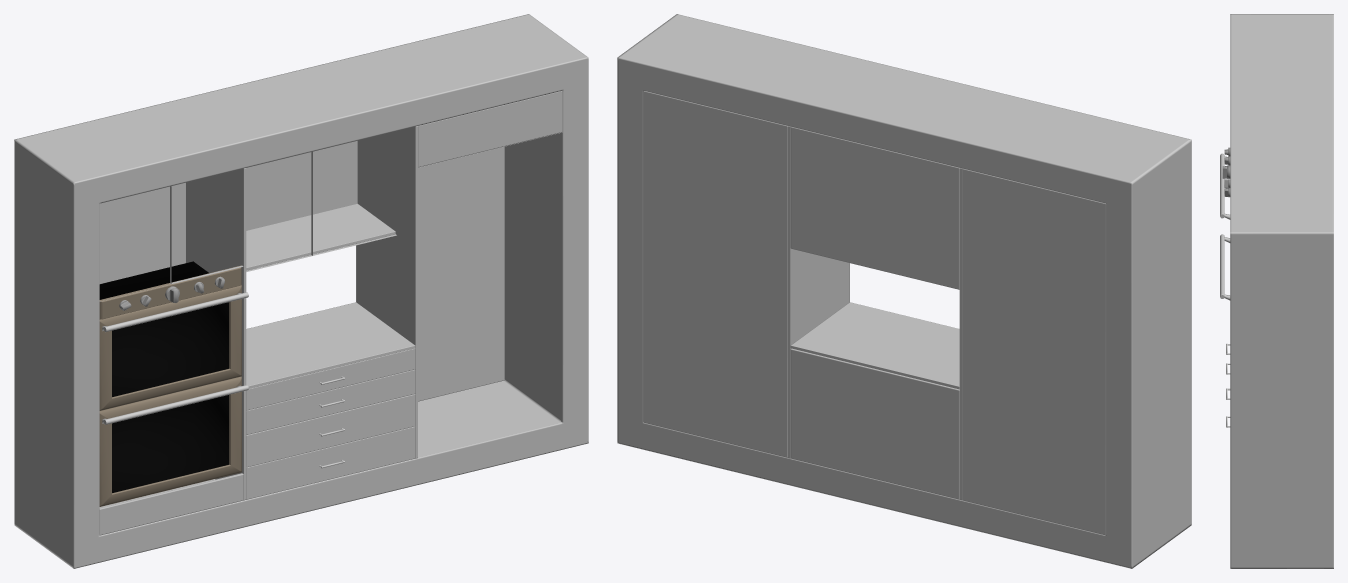
Rendered from 405Main.obj.
3 views of the same model, side by side, from view 1: azimuth 30°, elevation 25°; view 2: azimuth 150°, elevation 25°; view 3: azimuth 270°, elevation 25° (orthographic). The views are drawn at different scales.
Visible parts, largest first — view 1: 405; view 2: 405; view 3: 405.
Boxes of the visible parts, bbox=[...] form: 405: bbox=[14, 14, 588, 568]; 405: bbox=[617, 14, 1191, 568]; 405: bbox=[1220, 14, 1333, 568].
Size of the model in its own units: 3 by 2.15 by 0.6599.
